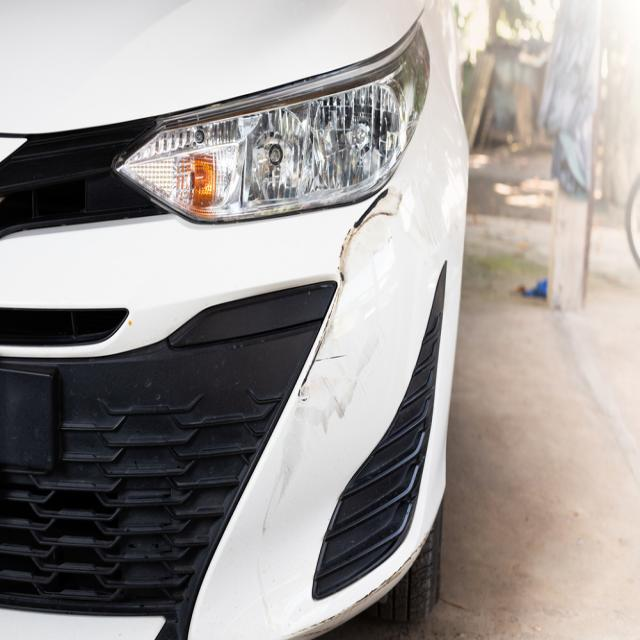scratch: (261, 179, 411, 527)
